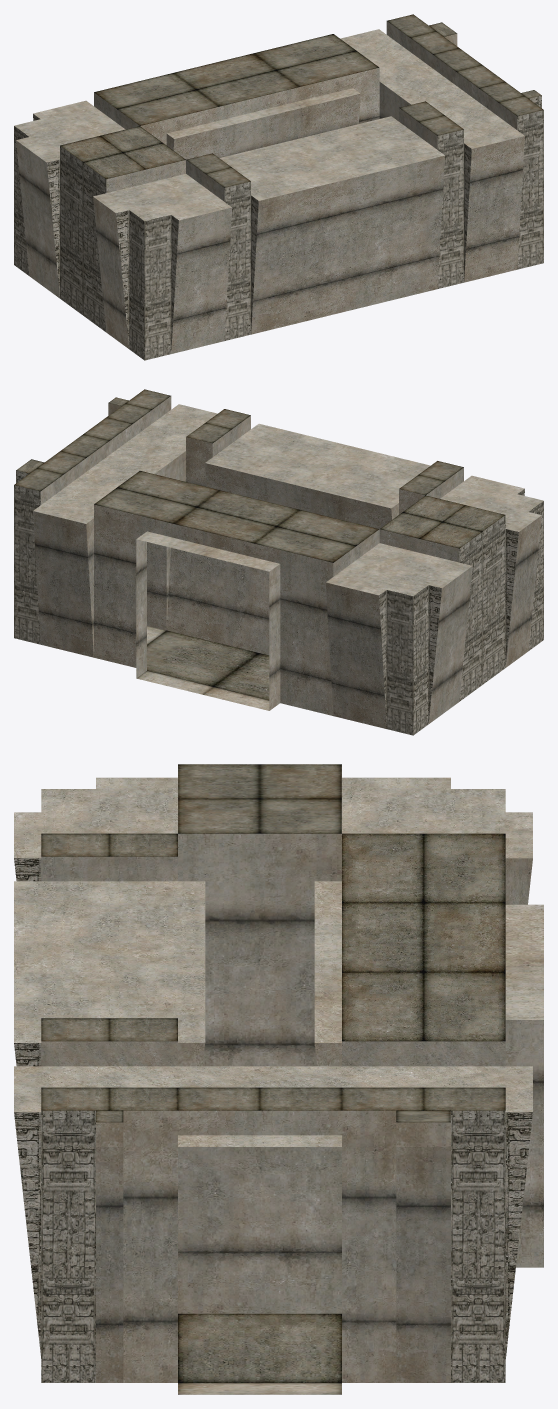
File: thm_yavn_great_massassi_temple_r9_hall4_mesh_r9.fbx
The picture shows the model from 3 angles, top to bottom: view 1: azimuth 30°, elevation 25°; view 2: azimuth 150°, elevation 25°; view 3: azimuth 270°, elevation 25°; orthographic projection. The views are drawn at different scales.
Visible parts, largest first — view 1: mesh_node; view 2: mesh_node; view 3: mesh_node.
Boxes of the visible parts, x1,y1,x2,y2 form: mesh_node: (14, 14, 543, 360); mesh_node: (14, 389, 543, 735); mesh_node: (14, 764, 543, 1394).
Bounding box in the file's own units: 16 × 5.5 × 9.7.
